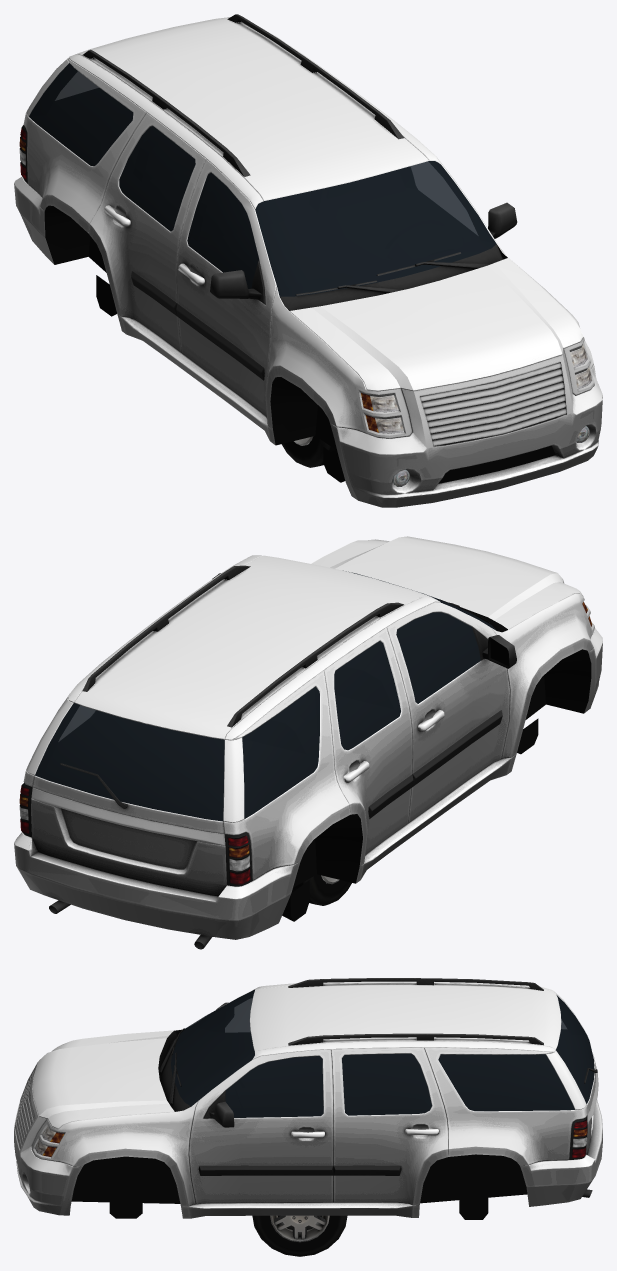
File: suv.glb
The picture shows the model from 3 angles, top to bottom: view 1: azimuth 30°, elevation 25°; view 2: azimuth 150°, elevation 25°; view 3: azimuth 270°, elevation 25°; orthographic projection. The views are drawn at different scales.
Visible parts, largest first — view 1: paint, glass, head, wheel0; view 2: paint, glass, wheel0, tail, head; view 3: paint, glass, wheel0, head, tail.
Boxes of the visible parts, x1,y1,x2,y2 form: paint: (14, 14, 602, 507); glass: (29, 63, 496, 296); head: (19, 125, 592, 486); wheel0: (281, 436, 338, 467); paint: (14, 536, 602, 949); glass: (35, 570, 495, 821); wheel0: (291, 874, 351, 905); tail: (19, 603, 589, 884); head: (19, 602, 592, 873); paint: (14, 978, 602, 1219); glass: (171, 990, 594, 1117); wheel0: (252, 1215, 347, 1256); head: (35, 1118, 587, 1156); tail: (48, 1120, 587, 1157).
Bounding box in the file's own units: 2.07 × 2.11 × 4.61.
6 materials, 5 textured.
